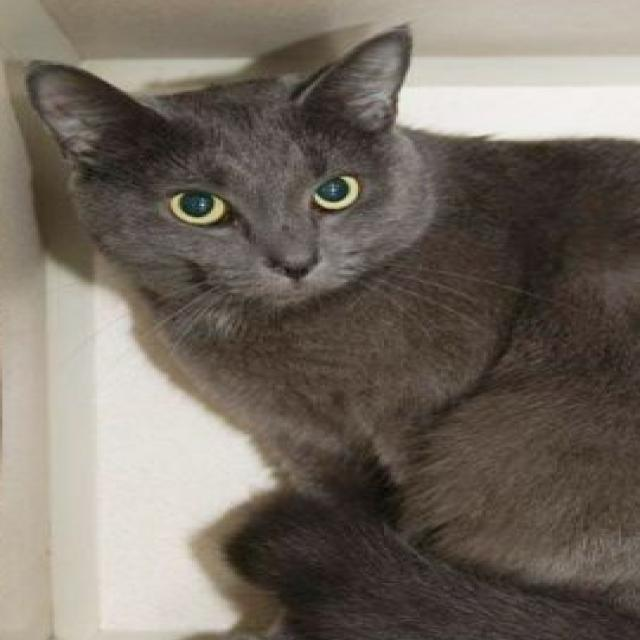Russian Blue: (19, 20, 640, 640)
